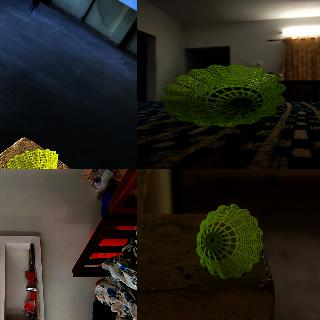shuttlecock: (159, 64, 286, 126), (196, 204, 262, 278), (6, 148, 58, 168)
